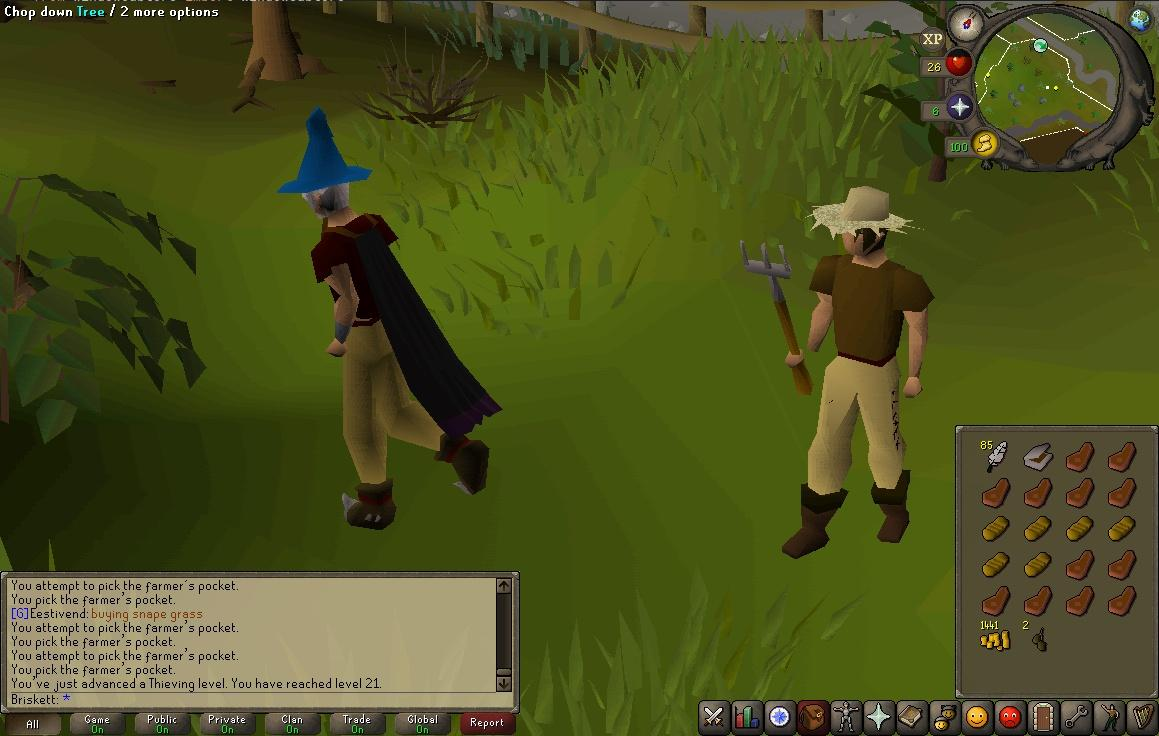Farmer: (775, 185, 935, 560)
